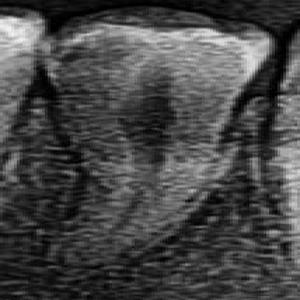tooth: (37, 8, 275, 252)
